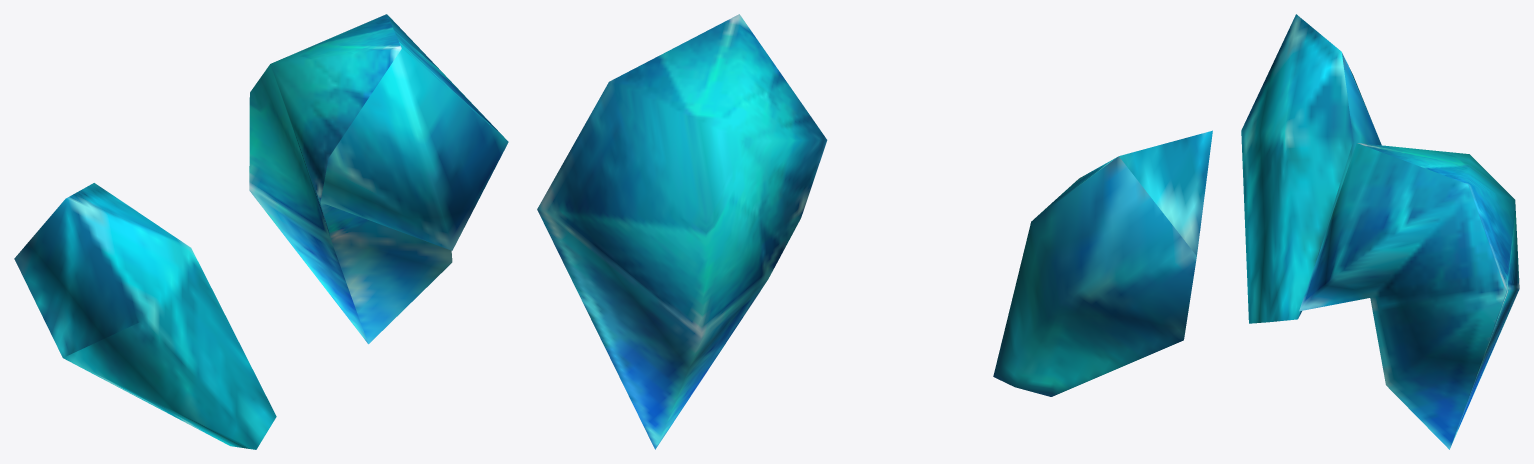
Rendered from SM_crystal_05.fbx.
3 views of the same model, side by side, from view 1: azimuth 30°, elevation 25°; view 2: azimuth 150°, elevation 25°; view 3: azimuth 270°, elevation 25° (orthographic). The views are drawn at different scales.
Visible parts, largest first — view 1: SM_crystal_05; view 2: SM_crystal_05; view 3: SM_crystal_05.
Part boxes in pixels (box(x1,y1,x2,y2)): SM_crystal_05: box(14, 14, 508, 449); SM_crystal_05: box(537, 14, 1212, 449); SM_crystal_05: box(1241, 14, 1519, 449).
Bounding box in the file's own units: 1.09 × 0.7291 × 0.6159.
